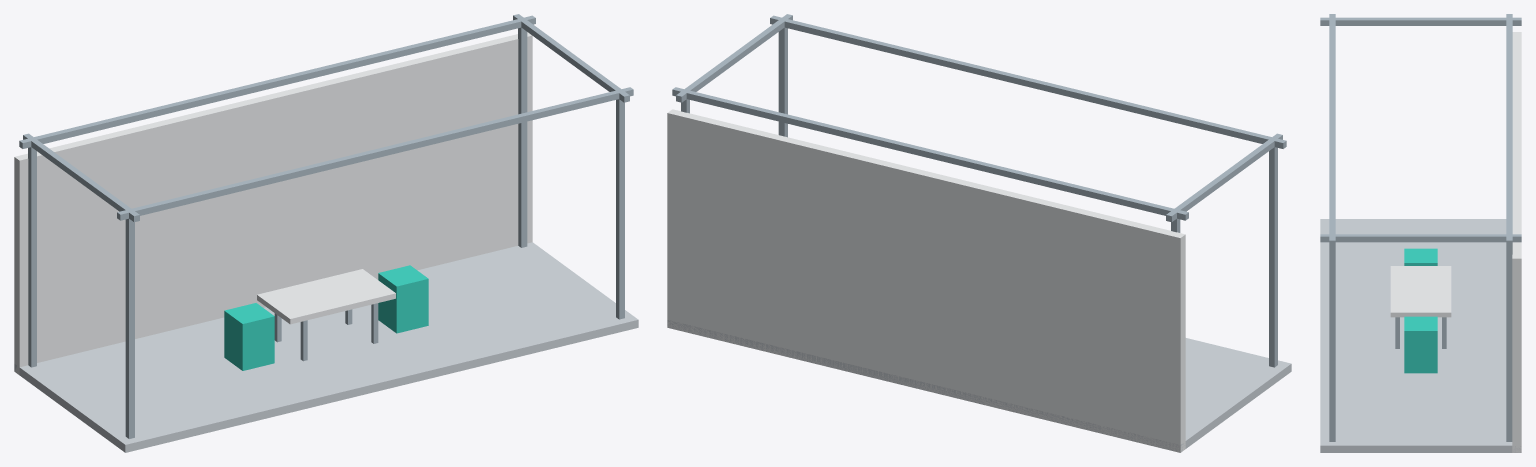
3 renders of one model, left to right at view 1: azimuth 30°, elevation 25°; view 2: azimuth 150°, elevation 25°; view 3: azimuth 270°, elevation 25°, orthographic. The views are drawn at different scales.
Visible parts, largest first — view 1: Exhibition Booth Concept; view 2: Exhibition Booth Concept; view 3: Exhibition Booth Concept.
Part boxes in pixels (x1,y1,x2,y2): Exhibition Booth Concept: (14,14,638,452); Exhibition Booth Concept: (667,14,1291,452); Exhibition Booth Concept: (1320,14,1521,452).
Size of the model in its own units: 8 by 3.49 by 3.
